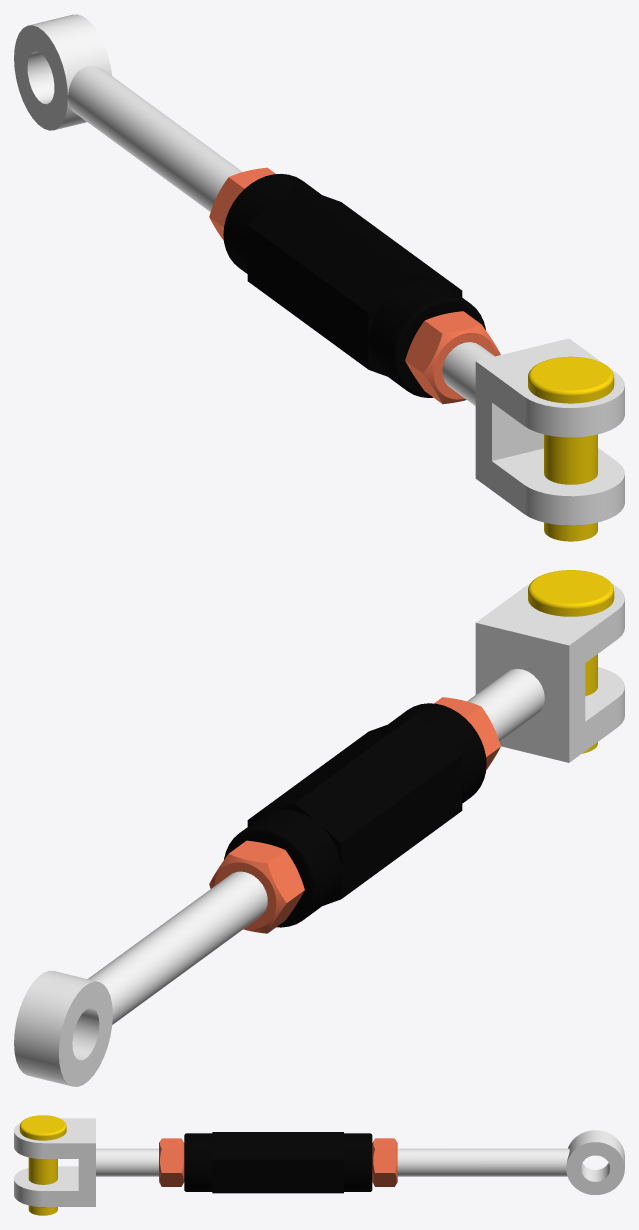
The picture shows the model from 3 angles, top to bottom: view 1: azimuth 30°, elevation 25°; view 2: azimuth 150°, elevation 25°; view 3: azimuth 270°, elevation 25°; orthographic projection. The views are drawn at different scales.
Visible parts, largest first — view 1: Solid1 (×5), solid; view 2: Solid1 (×5), solid; view 3: Solid1 (×5), solid.
Part boxes in pixels (x1,y1,x2,y2): Solid1 (×5): [14, 14, 624, 525]; solid: [528, 356, 614, 541]; Solid1 (×5): [14, 584, 624, 1086]; solid: [528, 570, 614, 753]; Solid1 (×5): [14, 1118, 624, 1206]; solid: [19, 1115, 66, 1215].
Bounding box in the file's own units: 0.05 × 0.08 × 0.5199.
